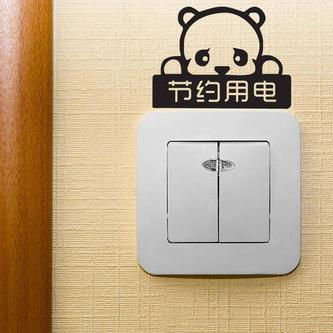switch: (163, 142, 221, 242), (221, 142, 269, 244)
